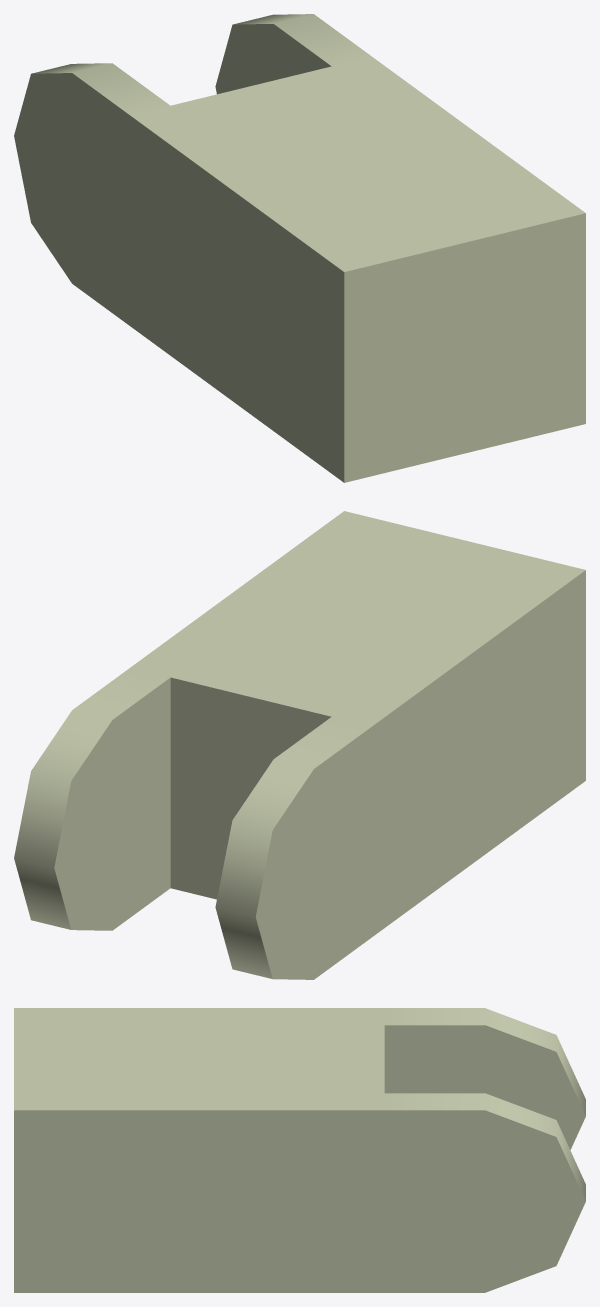
The model's file is Eridani_Antenna_4_Base.obj.
3 renders of one model, top to bottom at view 1: azimuth 30°, elevation 25°; view 2: azimuth 150°, elevation 25°; view 3: azimuth 270°, elevation 25°, orthographic. The views are drawn at different scales.
Parts seen in each view (by area): view 1: Eridani_Antenna_4_Base; view 2: Eridani_Antenna_4_Base; view 3: Eridani_Antenna_4_Base.
Part boxes in pixels (<box>): Eridani_Antenna_4_Base: <box>14,14,585,482</box>; Eridani_Antenna_4_Base: <box>14,511,585,979</box>; Eridani_Antenna_4_Base: <box>14,1008,585,1292</box>.
Bounding box in the file's own units: 0.15 × 0.125 × 0.355.
